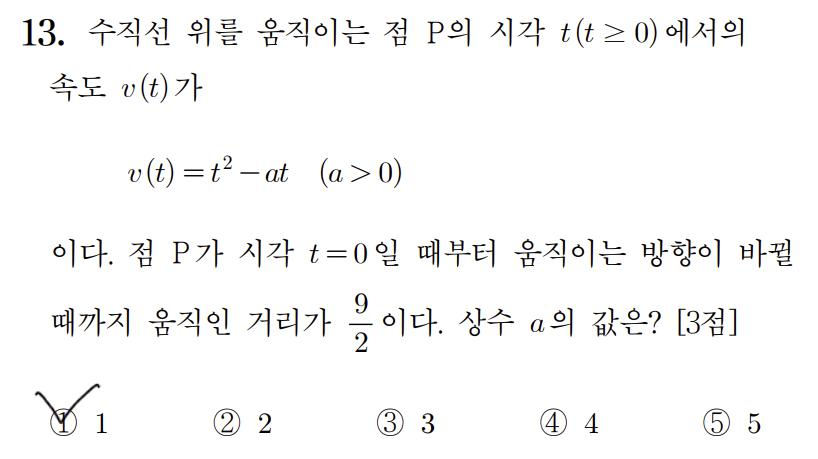1: (36, 384, 95, 437)
paper: (45, 407, 82, 443), (207, 405, 244, 441), (370, 405, 407, 441), (537, 406, 574, 442), (699, 404, 736, 440)
